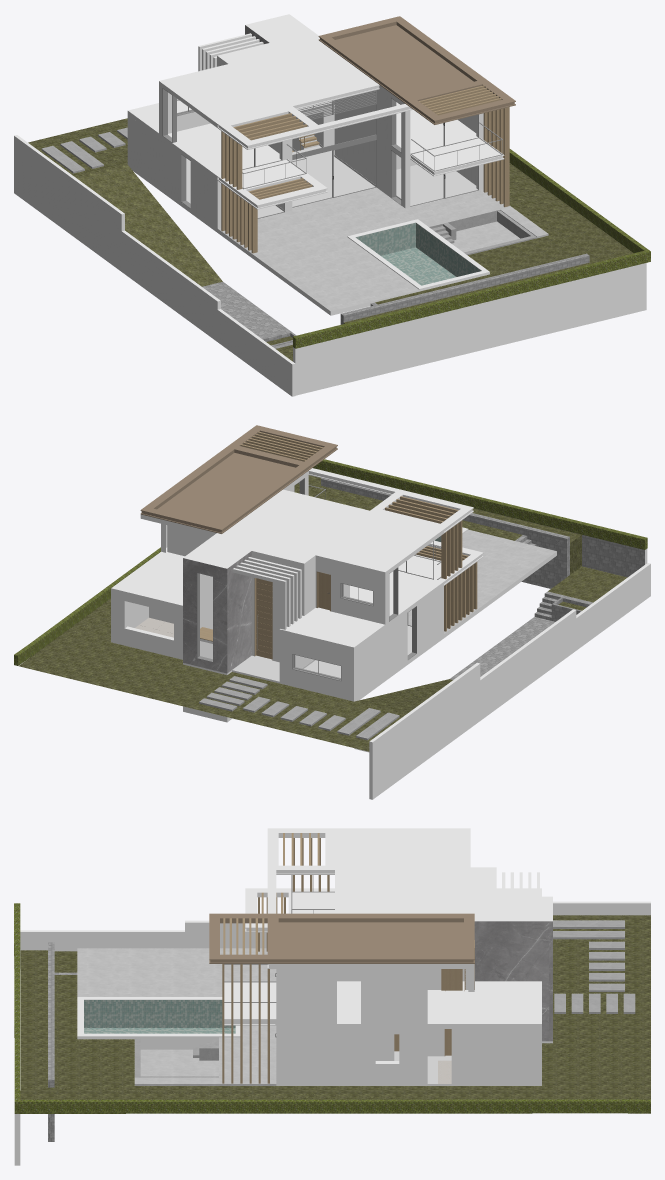
The model's file is MMM650PB.fbx.
3 renders of one model, top to bottom at view 1: azimuth 30°, elevation 25°; view 2: azimuth 150°, elevation 25°; view 3: azimuth 270°, elevation 25°, orthographic. The views are drawn at different scales.
Visible parts, largest first — view 1: 650.029, 650.003, 650.026, 650.028, 650.020, 650.002, 650.027, 650.030, 650.012, 650.017, 650.015, 650.010 (+7 smaller); view 2: 650.026, 650.028, 650.020, 650.002, 650.027, 650.030, 650.012, 650.019, 650.017, 650.009, 650.014, 650.015 (+5 smaller); view 3: 650.026, 650.020, 650.002, 650.003, 650.027, 650.017, 650.030, 650.014, 650.028, 650.009, 650.005, 650.012 (+6 smaller).
Boxes of the visible parts, x1=… form: 650.029: x1=293, y1=263, x2=646, y2=395; 650.003: x1=218, y1=187, x2=548, y2=311; 650.026: x1=28, y1=118, x2=633, y2=361; 650.028: x1=14, y1=135, x2=295, y2=396; 650.020: x1=159, y1=14, x2=408, y2=127; 650.002: x1=127, y1=89, x2=483, y2=228; 650.027: x1=318, y1=16, x2=515, y2=124; 650.030: x1=128, y1=100, x2=503, y2=205; 650.012: x1=221, y1=85, x2=509, y2=253; 650.017: x1=293, y1=149, x2=650, y2=348; 650.015: x1=127, y1=33, x2=477, y2=232; 650.010: x1=162, y1=88, x2=502, y2=218; 650.026: x1=19, y1=475, x2=627, y2=751; 650.028: x1=369, y1=563, x2=650, y2=799; 650.020: x1=140, y1=468, x2=443, y2=576; 650.002: x1=111, y1=486, x2=443, y2=699; 650.027: x1=140, y1=425, x2=337, y2=533; 650.030: x1=111, y1=540, x2=482, y2=651; 650.012: x1=200, y1=431, x2=477, y2=660; 650.019: x1=321, y1=478, x2=644, y2=752; 650.017: x1=14, y1=459, x2=647, y2=665; 650.009: x1=183, y1=551, x2=251, y2=673; 650.014: x1=161, y1=475, x2=388, y2=624; 650.015: x1=111, y1=557, x2=443, y2=701; 650.026: x1=20, y1=915, x2=650, y2=1099; 650.020: x1=267, y1=828, x2=552, y2=921; 650.002: x1=276, y1=1029, x2=541, y2=1083; 650.003: x1=77, y1=948, x2=276, y2=1085; 650.027: x1=209, y1=913, x2=474, y2=963; 650.017: x1=14, y1=903, x2=650, y2=1113; 650.030: x1=224, y1=888, x2=541, y2=1028; 650.014: x1=276, y1=969, x2=474, y2=1023; 650.028: x1=14, y1=901, x2=650, y2=968; 650.009: x1=474, y1=921, x2=552, y2=1041; 650.005: x1=134, y1=920, x2=635, y2=1077; 650.012: x1=222, y1=833, x2=474, y2=1083.
Size of the model in its own units: 2188 by 922 by 2937.
